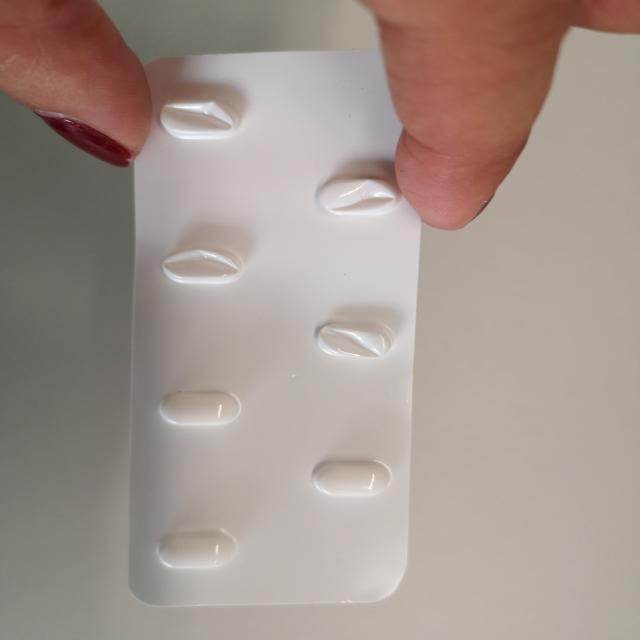Empty: (151, 96, 254, 143), (308, 176, 406, 221), (304, 317, 399, 362), (157, 246, 248, 290)
Pill: (152, 388, 251, 431), (148, 529, 240, 573), (308, 455, 394, 502)
